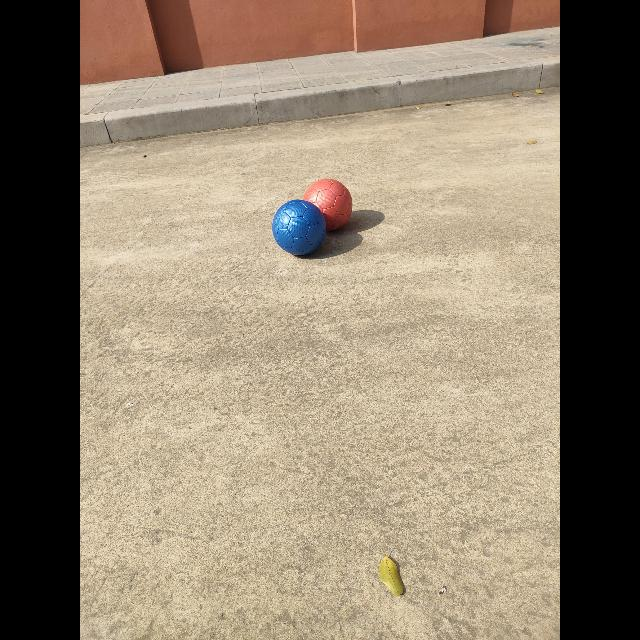B: (272, 200, 326, 255)
R: (304, 179, 352, 230)
